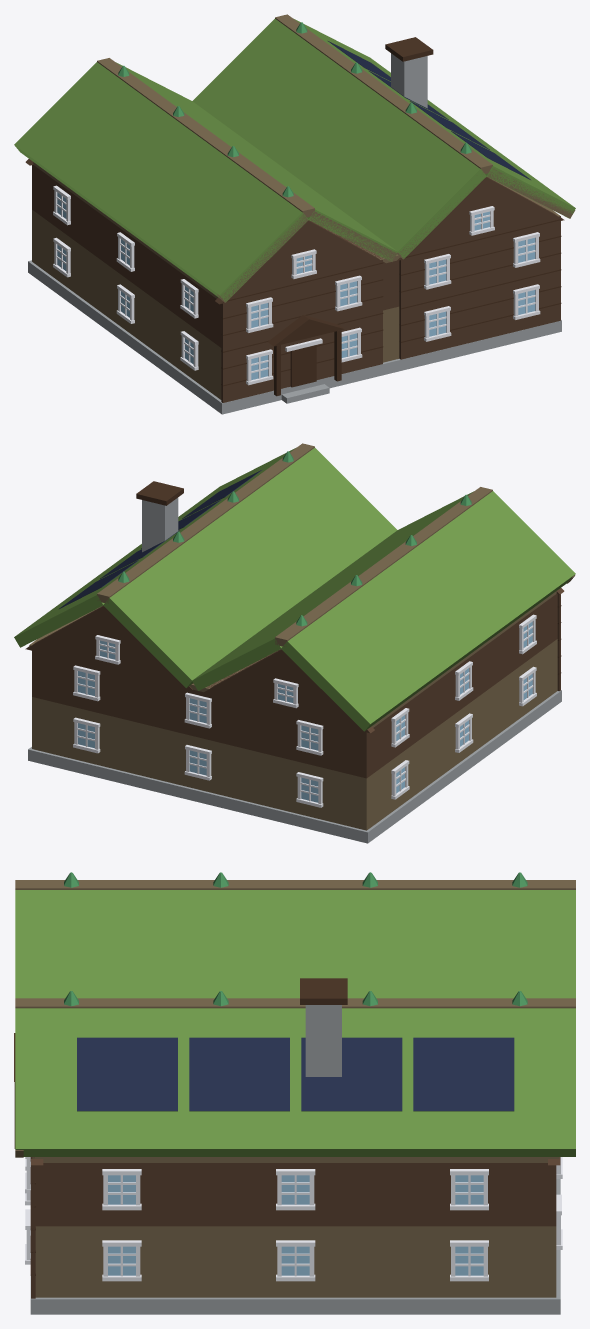
The model's file is house-2x2-2f-turf-a-solar.glb.
The picture shows the model from 3 angles, top to bottom: view 1: azimuth 30°, elevation 25°; view 2: azimuth 150°, elevation 25°; view 3: azimuth 270°, elevation 25°; orthographic projection. The views are drawn at different scales.
Visible parts, largest first — view 1: house-2x2-2f-turf-a-solar; view 2: house-2x2-2f-turf-a-solar; view 3: house-2x2-2f-turf-a-solar.
Part boxes in pixels (bbox=[...]): house-2x2-2f-turf-a-solar: bbox=[14, 14, 575, 414]; house-2x2-2f-turf-a-solar: bbox=[14, 443, 575, 843]; house-2x2-2f-turf-a-solar: bbox=[14, 872, 575, 1314].
Size of the model in its own units: 2 by 1.16 by 2.
1 material, 1 textured.
